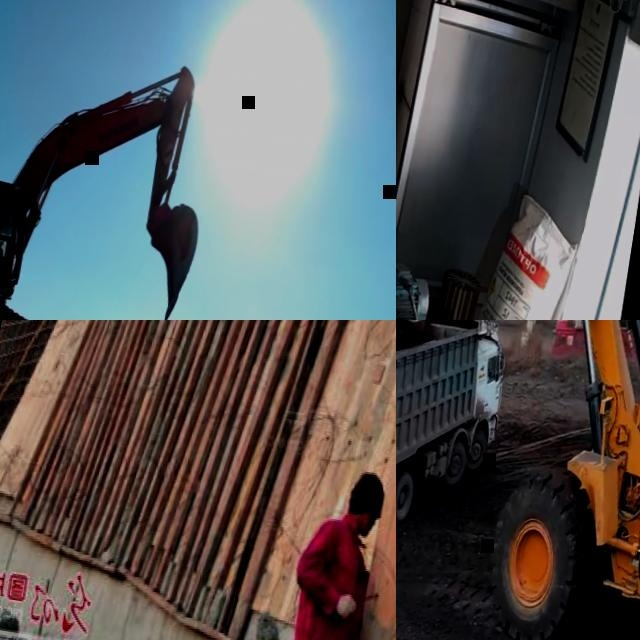NO-Hardhat: (346, 468, 389, 523)
NO-Mask: (352, 514, 374, 539)
NO-Safety Vest: (287, 520, 372, 640)
Person: (275, 457, 393, 640), (0, 212, 10, 264)
machinery: (396, 320, 640, 640), (0, 23, 223, 320), (396, 320, 516, 566), (548, 320, 639, 368)
